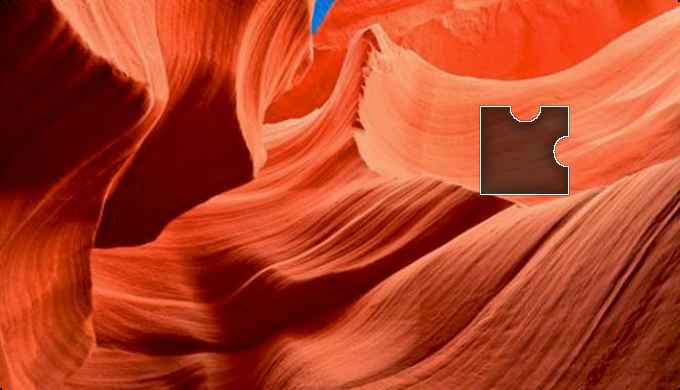gap: (482, 105, 570, 197)
